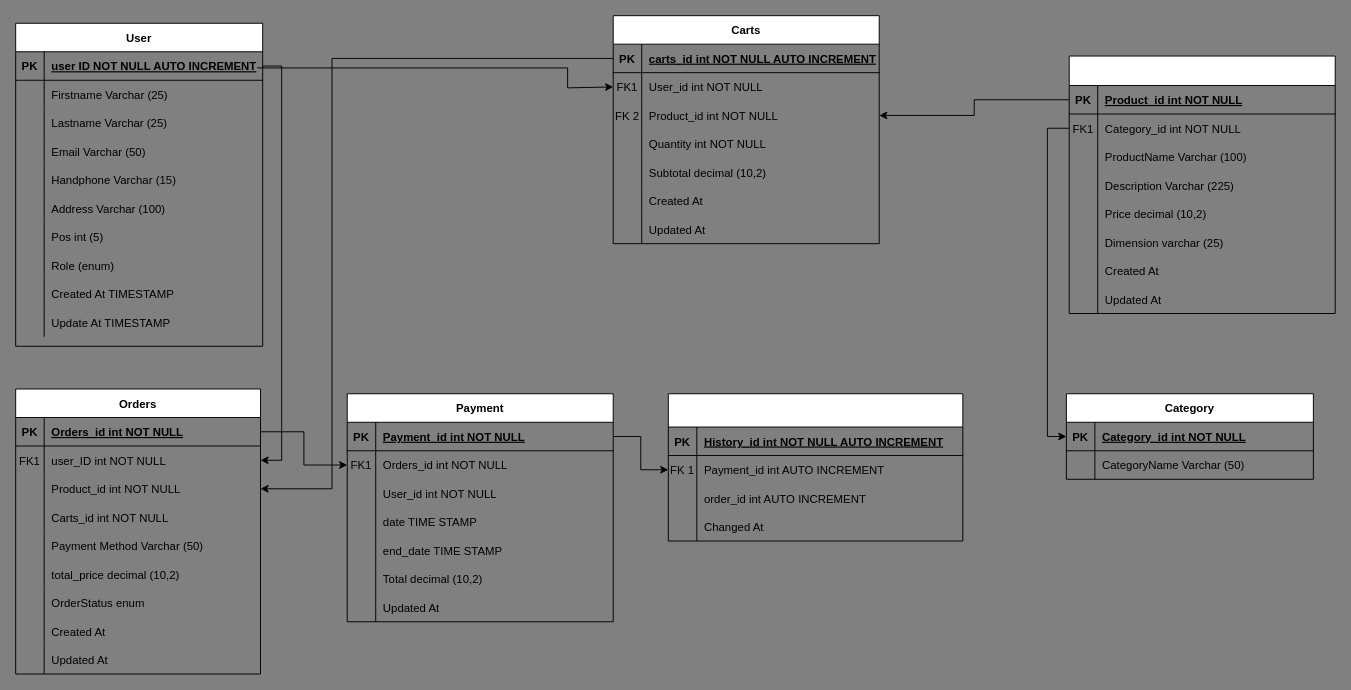
This 1351x690 diagram has some shape labels left out. The box of each missing label's shape, as (x1, y1, x2, y2) in pixels:
Order_History: (667, 393, 963, 541)
Products: (1068, 55, 1335, 314)
